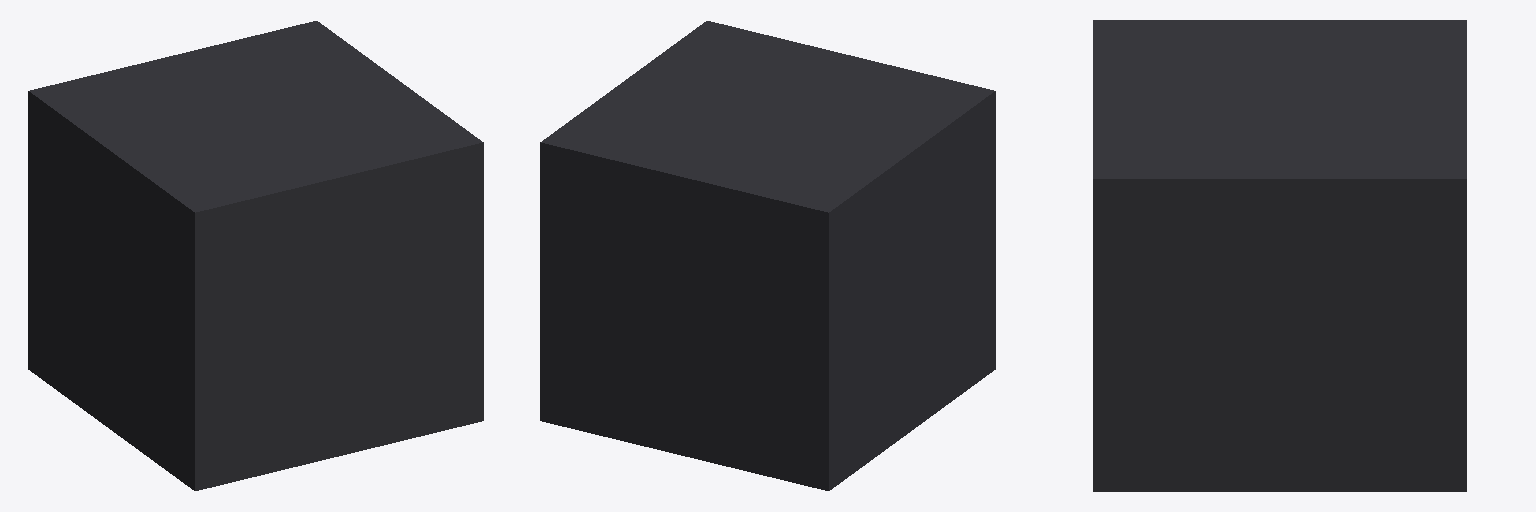
URDF robot description (mid360):
<?xml version="1.0"?>
<!--
  Livox MID-360, the source for the baked USD in module.py (_MID360_USD). Regenerate with:

      python -c "from dimos.robot.assets.model import RobotModel; \
                 from dimos.robot.assets.usd import urdf_to_usd; \
                 print(urdf_to_usd(RobotModel.from_file(
                     'dimos/hardware/sensors/lidar/livox/mid360.urdf').load()))"

  then re-insert the dimos:link / dimos:joint placeholders (@LIDAR@, @IMU@).

  Dimensions are from the Livox MID-360 specs: 65 x 65 x 60 mm, 265 g, four M3 holes in the
  base. The link names here are the canonical ones; module.py substitutes the configured
  frame ids into the attributes.

  The root link is the point cloud origin, which is the frame the driver stamps its cloud
  with, not the mounting face. So a mount transform onto this points at the optical origin.
-->
<robot name="mid360">
  <link name="lidar_link"/>

  <!-- The body hangs off the origin rather than containing it: the puck's shell is what a
       renderer draws, but the cloud arrives in the origin frame.

       PLACEHOLDER: the -20 mm z offset is inferred, not from Livox. The IMU sits 44.12 mm
       below the origin (see below) and the puck is 60 mm tall, which puts the origin near the
       top of the shell, but Livox publishes the origin only in a dimensioned drawing, so
       the exact figure is unverified. It moves the drawn box, nothing measured. -->
  <link name="lidar_link_body">
    <visual>
      <geometry><box size="0.065 0.065 0.060"/></geometry>
      <material name="livox_grey"><color rgba="0.25 0.25 0.27 1"/></material>
    </visual>
    <collision>
      <geometry><box size="0.065 0.065 0.060"/></geometry>
    </collision>
  </link>
  <joint name="lidar_link_to_body" type="fixed">
    <parent link="lidar_link"/><child link="lidar_link_body"/>
    <origin xyz="0 0 -0.020"/>
  </joint>

  <!-- Built-in ICM40609. The offset is PointLioConfig.extrinsic_t (the lidar origin in the
       IMU frame) negated, so this is the IMU origin in the lidar frame. That default is the
       in-repo source of truth for this extrinsic; keep the two in step. -->
  <link name="imu_link"/>
  <joint name="lidar_link_to_imu_link" type="fixed">
    <parent link="lidar_link"/><child link="imu_link"/>
    <origin xyz="0.011 0.02329 -0.04412"/>
  </joint>
</robot>

--- Render facts (derived) ---
The picture shows the robot from 3 angles, left to right: view 1: azimuth 30°, elevation 25°; view 2: azimuth 150°, elevation 25°; view 3: azimuth 270°, elevation 25°; orthographic projection.
Model mid360 with 3 links and 2 joints (2 fixed), rooted at lidar_link, posed all joints at 0.
Visible links, largest first — view 1: lidar_link_body; view 2: lidar_link_body; view 3: lidar_link_body.
Boxes of the visible links, x1,y1,x2,y2 form: lidar_link_body: (28,21,483,490); lidar_link_body: (540,21,995,490); lidar_link_body: (1093,20,1466,491).
Size in the robot's own frame: 0.065 by 0.065 by 0.06 metres.
Geometry: primitives only (box / cylinder / sphere), no mesh files.
